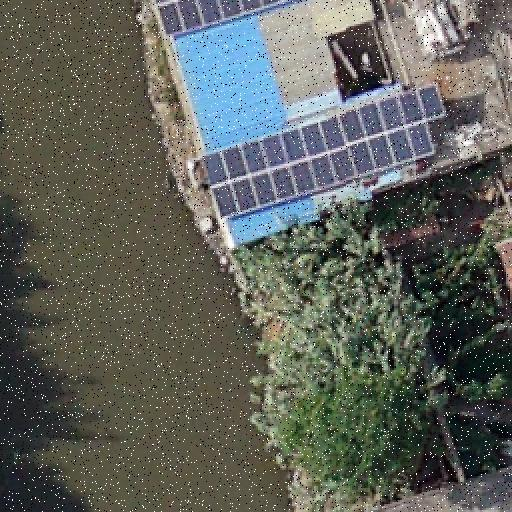solar-panel: (200, 84, 444, 220), (156, 1, 288, 39)
